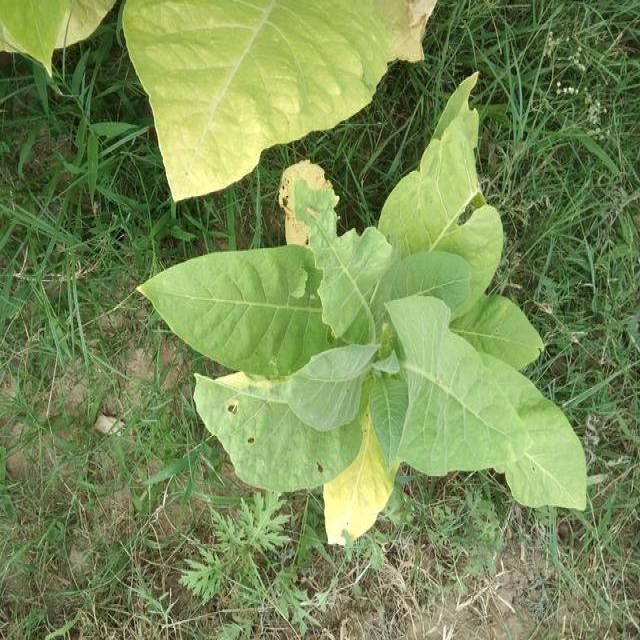crop: (132, 92, 590, 546)
